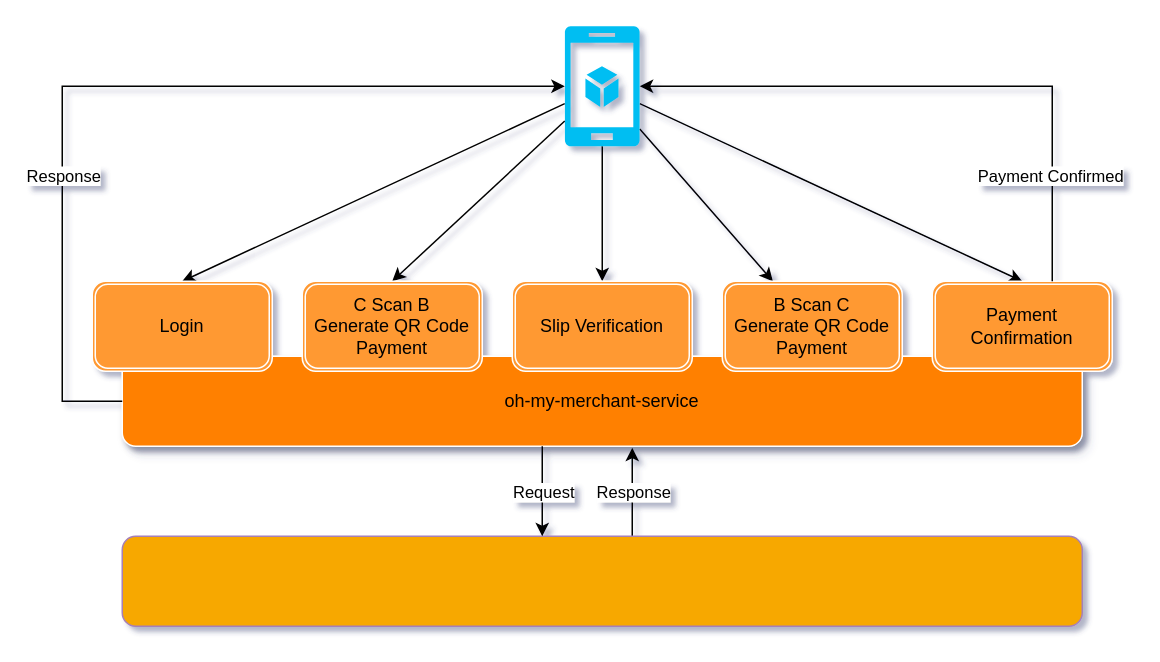
Image size: 1160x662. Some labels were removed from this diagram. The centre of each missing label's shape, as x and y in pixels:
SCB Open Banking API: (x=601, y=580)
Somjai Application: (x=601, y=86)
